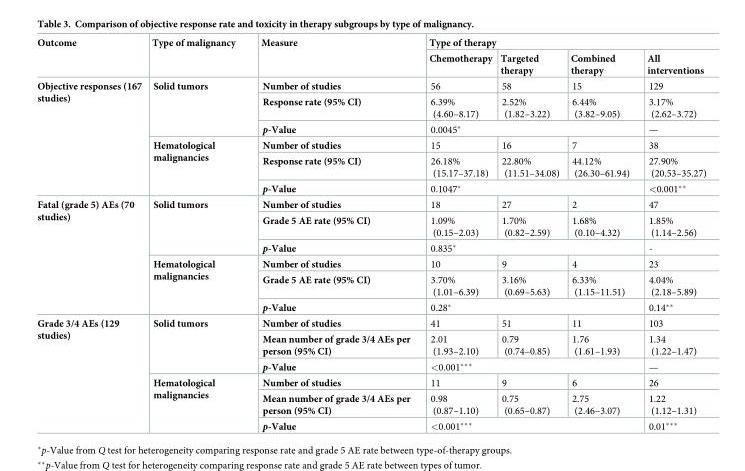table: (36, 37, 705, 432)
table column: (247, 37, 419, 432), (36, 37, 146, 432), (146, 37, 247, 432), (419, 37, 495, 432), (564, 37, 637, 432), (495, 37, 564, 432), (637, 37, 705, 432)
table column header: (36, 37, 705, 77)
table row: (36, 50, 705, 77), (36, 93, 705, 120), (36, 153, 705, 180), (36, 212, 705, 239), (36, 271, 705, 298), (36, 331, 705, 358), (36, 390, 705, 417), (36, 120, 705, 137), (36, 180, 705, 197), (36, 239, 705, 256), (36, 298, 705, 315), (36, 358, 705, 375), (36, 77, 705, 93), (36, 137, 705, 153), (36, 315, 705, 331), (36, 197, 705, 212), (36, 256, 705, 271), (36, 375, 705, 390), (36, 417, 705, 432), (36, 37, 705, 50)
table spanning cell: (36, 77, 146, 197), (36, 197, 146, 315), (36, 315, 146, 432), (247, 37, 419, 77), (146, 77, 247, 137), (146, 137, 247, 197), (146, 315, 247, 375), (146, 197, 247, 256), (146, 256, 247, 315), (146, 375, 247, 432), (36, 37, 146, 77), (146, 37, 247, 77), (419, 37, 705, 50), (419, 120, 637, 137), (419, 180, 637, 197), (419, 239, 637, 256), (419, 298, 637, 315), (419, 358, 637, 375), (419, 417, 637, 432)
